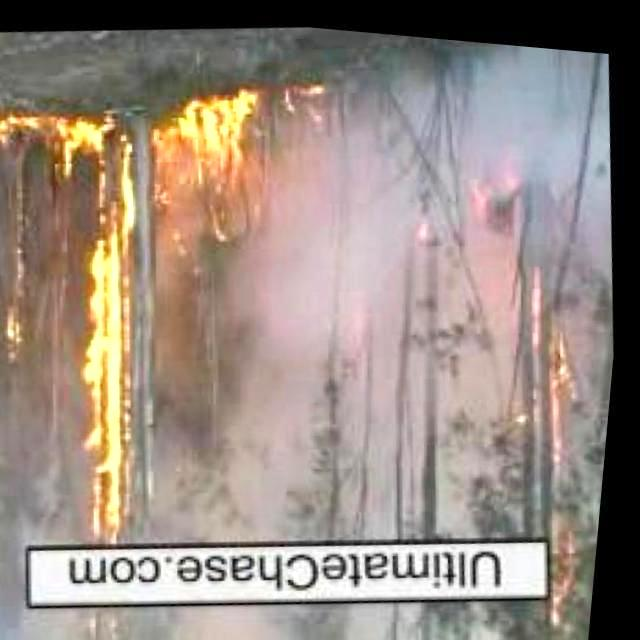fire: (55, 173, 157, 533), (0, 70, 276, 202), (532, 315, 596, 455), (542, 509, 594, 623), (0, 287, 40, 365)
